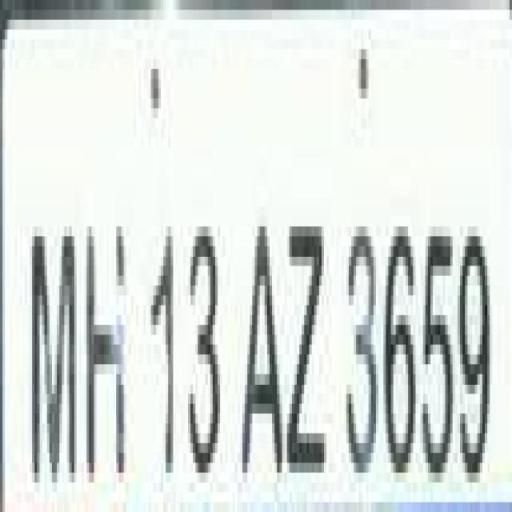number plate: (19, 0, 512, 512)
